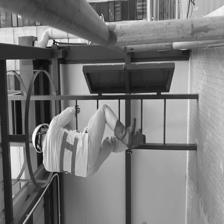Feet: (110, 109, 141, 156)
Hand: (54, 114, 81, 116)
Ladder: (30, 86, 211, 152)
